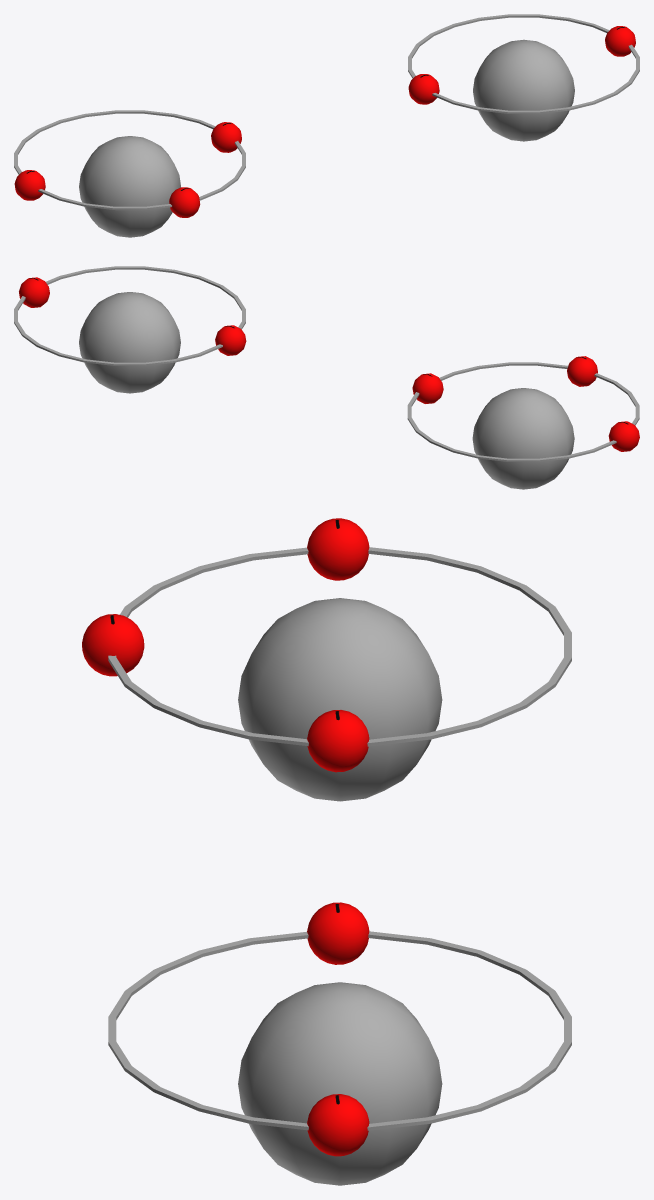
Rendered from Ions.fbx.
3 renders of one model, top to bottom at view 1: azimuth 30°, elevation 25°; view 2: azimuth 150°, elevation 25°; view 3: azimuth 270°, elevation 25°, orthographic. The views are drawn at different scales.
Parts seen in each view (by area): view 1: polySurface1 (×2), polySurface2 (×2), Minus3 (×2), Minus1 (×2), Minus2; view 2: polySurface1 (×2), polySurface2 (×2), Minus3 (×2), Minus1 (×2), Minus2; view 3: polySurface1 (×2), polySurface2 (×2), Minus3 (×2), Minus1 (×2), Minus2.
Part boxes in pixels (<box>): polySurface1 (×2): <box>79,39,574,237</box>; polySurface2 (×2): <box>14,14,639,210</box>; Minus3 (×2): <box>14,74,439,200</box>; Minus1 (×2): <box>211,26,635,152</box>; Minus2: <box>169,187,200,217</box>; polySurface1 (×2): <box>79,292,574,489</box>; polySurface2 (×2): <box>14,266,639,461</box>; Minus3 (×2): <box>215,325,639,451</box>; Minus1 (×2): <box>19,277,443,403</box>; Minus2: <box>567,356,597,386</box>; polySurface1 (×2): <box>238,598,442,1185</box>; polySurface2 (×2): <box>108,547,571,1130</box>; Minus3 (×2): <box>307,518,369,964</box>; Minus1 (×2): <box>307,710,369,1156</box>; Minus2: <box>82,614,144,676</box>.
Size of the model in its own units: 633 by 90.71 by 218.
3 materials, 2 textured.
